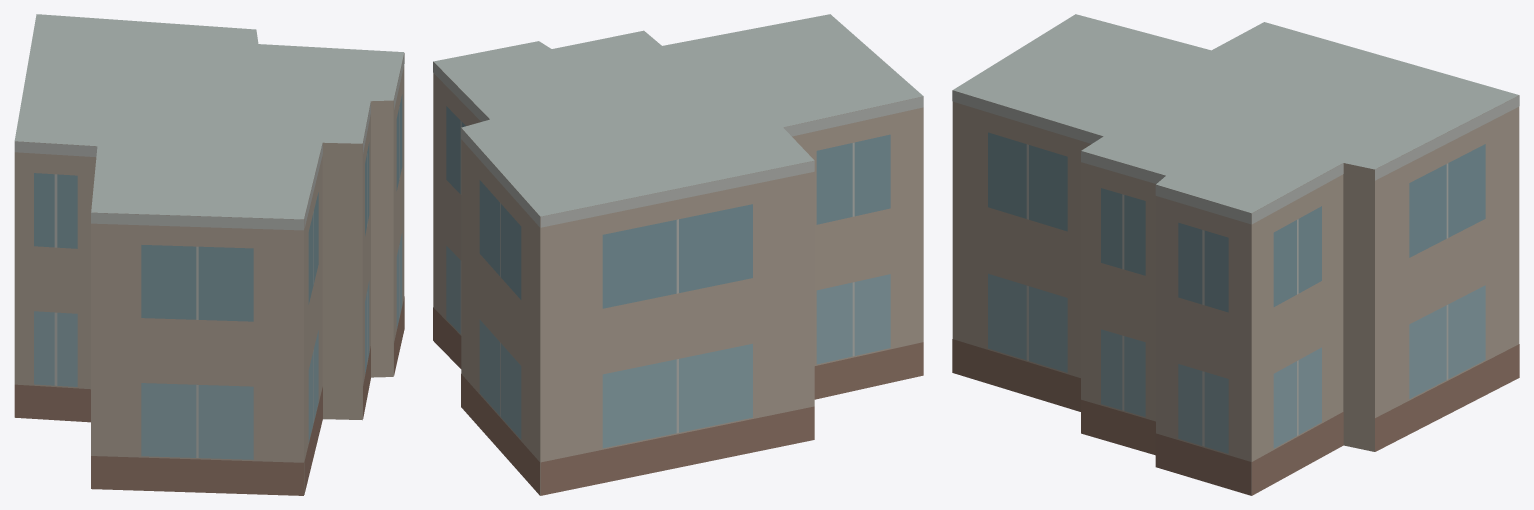
The model's file is survey-upis-32646639.glb.
3 renders of one model, left to right at view 1: azimuth 30°, elevation 25°; view 2: azimuth 150°, elevation 25°; view 3: azimuth 270°, elevation 25°, orthographic. The views are drawn at different scales.
Visible parts, largest first — view 1: survey-upis-32646639.tmp; view 2: survey-upis-32646639.tmp; view 3: survey-upis-32646639.tmp.
Part boxes in pixels (x1,y1,x2,y2): survey-upis-32646639.tmp: (14,14,404,495); survey-upis-32646639.tmp: (433,14,923,495); survey-upis-32646639.tmp: (952,14,1519,495).
Bounding box in the file's own units: 9.23 × 6.1 × 11.1.
